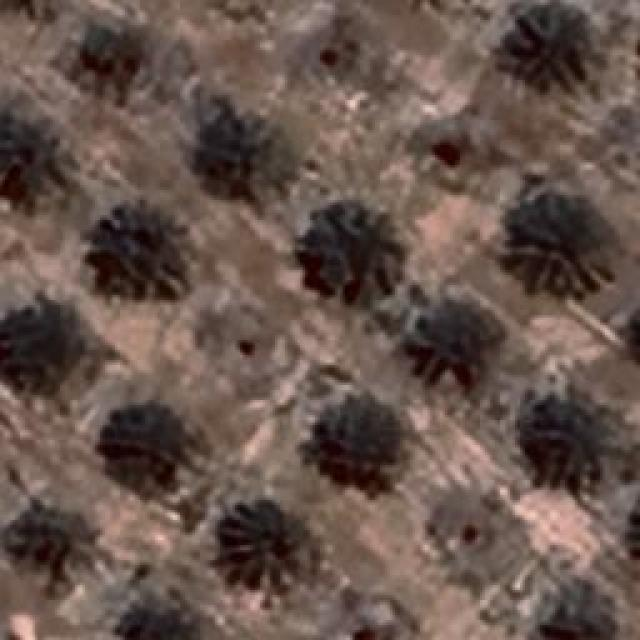PalmTree: (11, 58, 634, 527), (510, 205, 615, 298), (500, 0, 595, 92), (220, 500, 320, 585), (541, 380, 624, 482), (302, 209, 396, 299), (205, 116, 298, 206), (105, 198, 180, 290), (8, 308, 84, 394), (319, 394, 399, 474), (0, 121, 70, 211), (427, 300, 495, 388), (528, 579, 616, 640), (108, 408, 180, 478), (11, 514, 74, 584), (113, 590, 199, 640), (0, 0, 63, 24), (625, 479, 640, 574), (624, 294, 640, 376), (0, 0, 66, 18), (629, 294, 640, 376)
